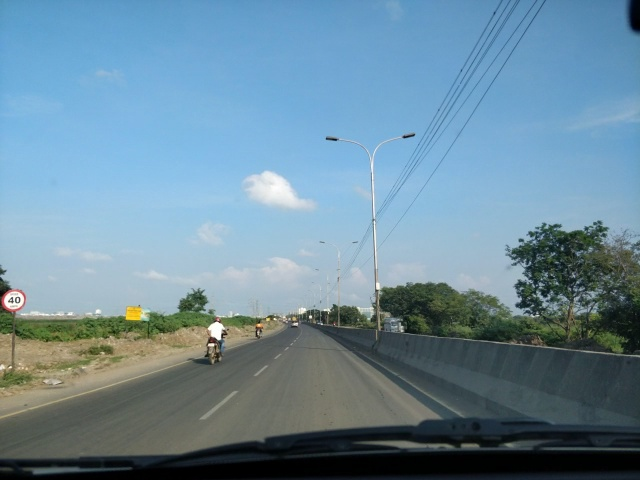car: (293, 315, 299, 327)
motorbike: (207, 321, 228, 365), (255, 324, 263, 342)
